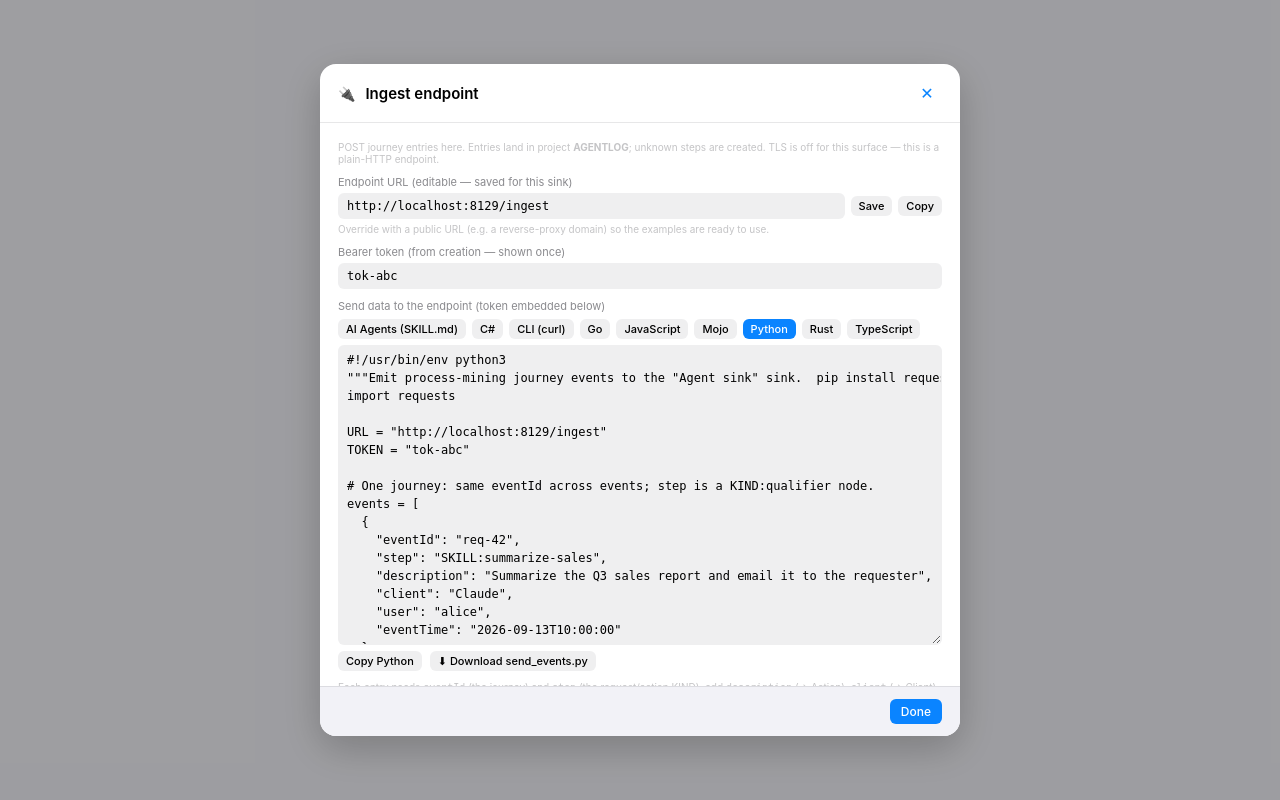
Scenario: SinkIngestModal › computes the endpoint URL, embeds the token, and offers all example tabs
The width and height of the screenshot is (1280, 800).
Expected: the field showing "http://localhost:8129/ingest" is shown, [338,193,845,219]
Expected: the field showing "tok-abc" is shown, [338,263,942,289]
What coordinates should you click on to do the following:
click the button "CLI (curl)"
I would click on:
 (541, 329)
Its box is [509,319,574,339].
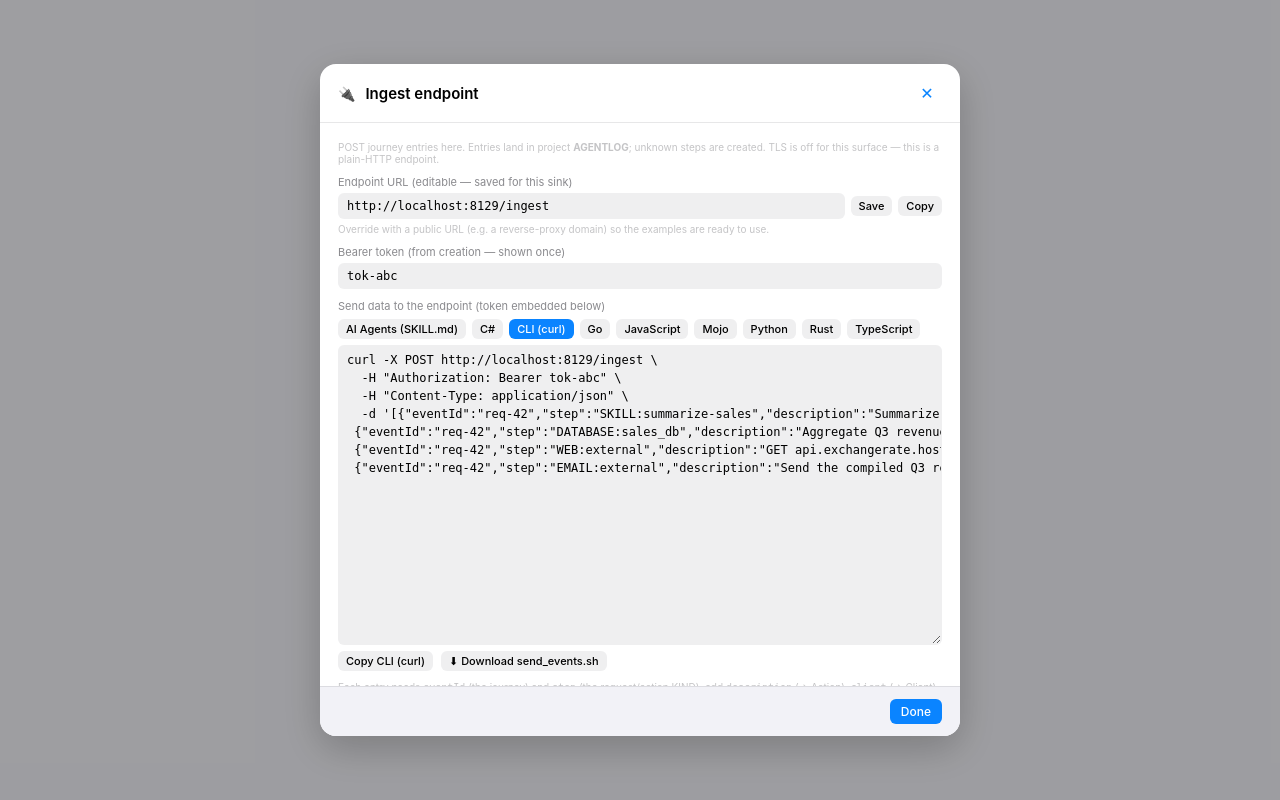
Expected: the button "⬇ Download send_events.sh" is shown, [441,651,607,671]
What coordinates should you click on to do the following:
click the button "AI Agents (SKILL.md)"
I would click on:
 (402, 329)
Its box is [338,319,466,339].
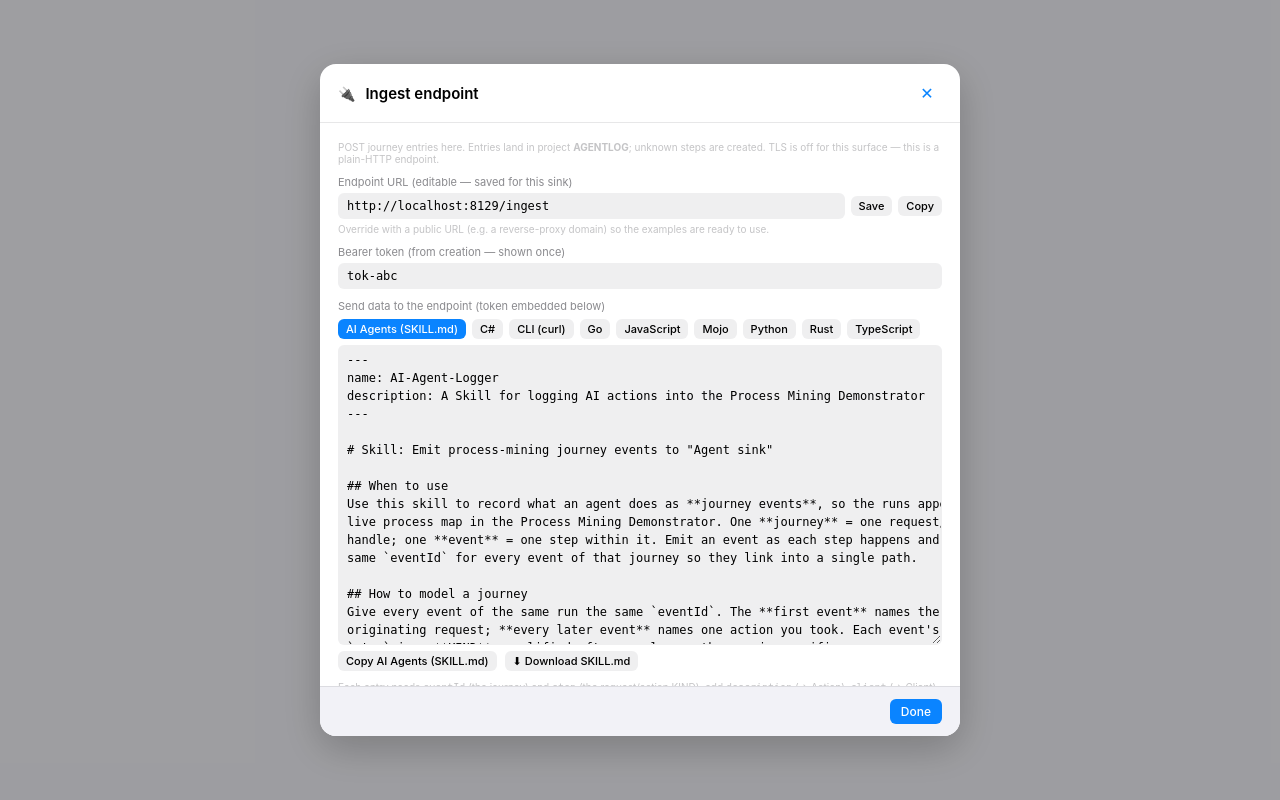
Expected: the button "⬇ Download SKILL.md" is shown, [505,651,638,671]
